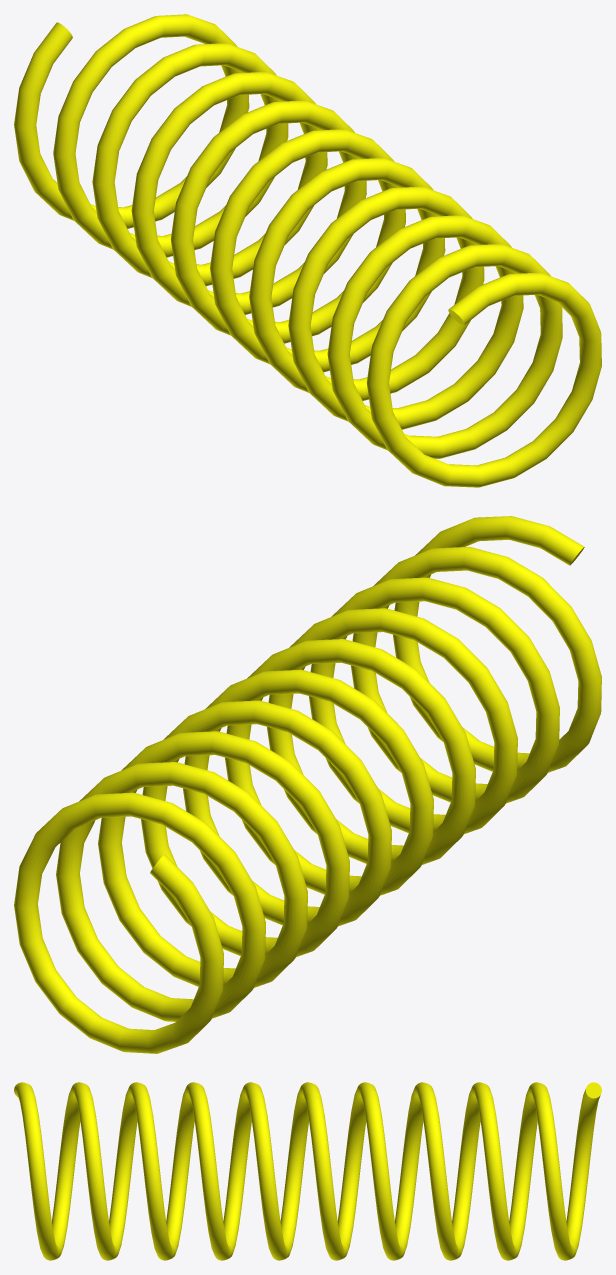
The model's file is resorte.obj.
3 renders of one model, top to bottom at view 1: azimuth 30°, elevation 25°; view 2: azimuth 150°, elevation 25°; view 3: azimuth 270°, elevation 25°, orthographic. The views are drawn at different scales.
Parts seen in each view (by area): view 1: Spring001; view 2: Spring001; view 3: Spring001.
Part boxes in pixels (<box>): Spring001: <box>14,14,601,487</box>; Spring001: <box>14,516,601,1053</box>; Spring001: <box>14,1082,601,1260</box>.
Size of the model in its own units: 1.1 by 1.1 by 3.6.
